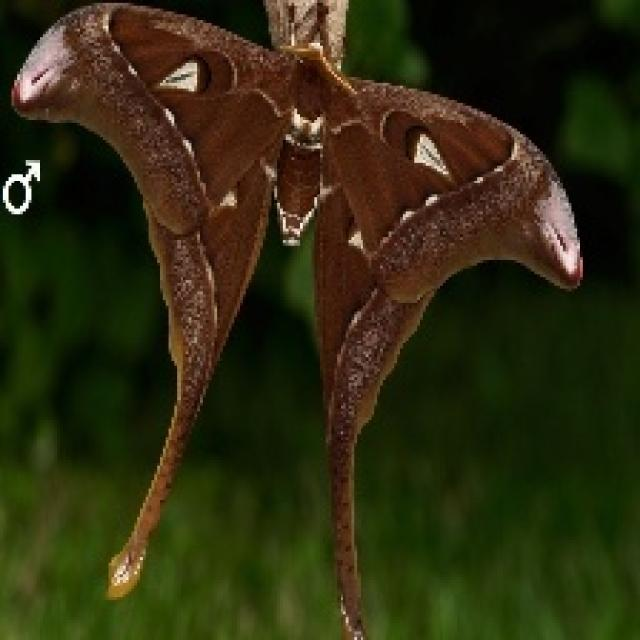butterfly: (8, 0, 586, 637)
